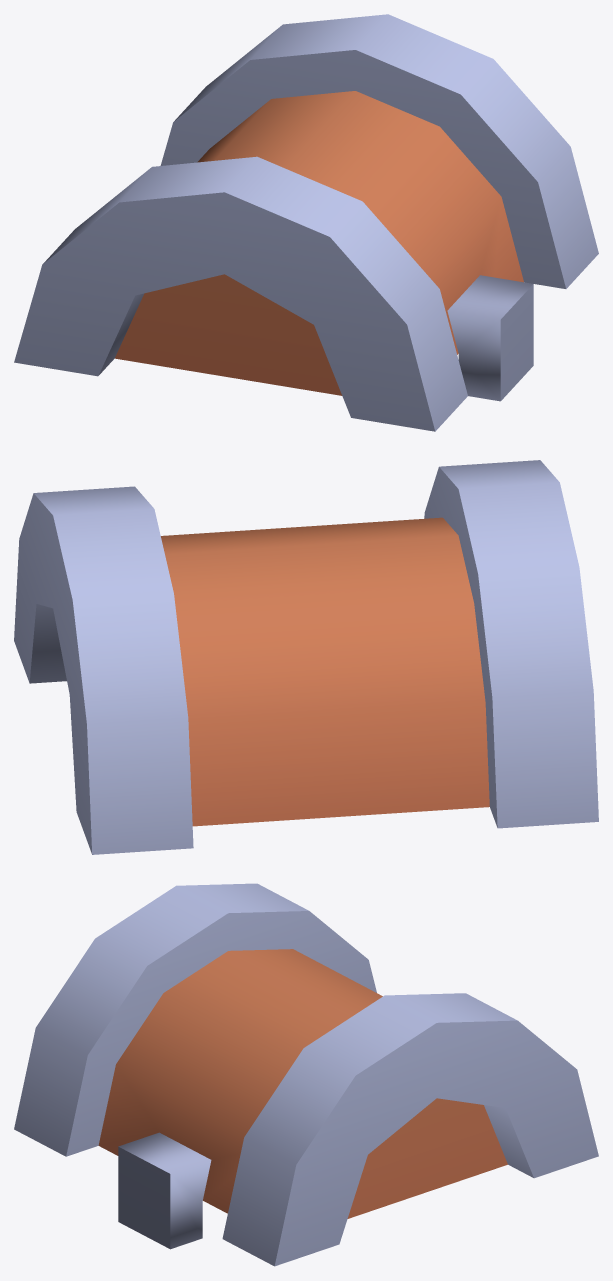
The model's file is lid_lev5.glb.
The picture shows the model from 3 angles, top to bottom: view 1: azimuth 30°, elevation 25°; view 2: azimuth 150°, elevation 25°; view 3: azimuth 270°, elevation 25°; orthographic projection. The views are drawn at different scales.
Visible parts, largest first — view 1: lid_lev5; view 2: lid_lev5; view 3: lid_lev5.
Boxes of the visible parts, x1,y1,x2,y2 form: lid_lev5: [14, 14, 598, 431]; lid_lev5: [14, 460, 598, 854]; lid_lev5: [14, 883, 598, 1266].
Bounding box in the file's own units: 1.48 × 0.6338 × 1.48.
Materials: 1 (1 with a texture image).
